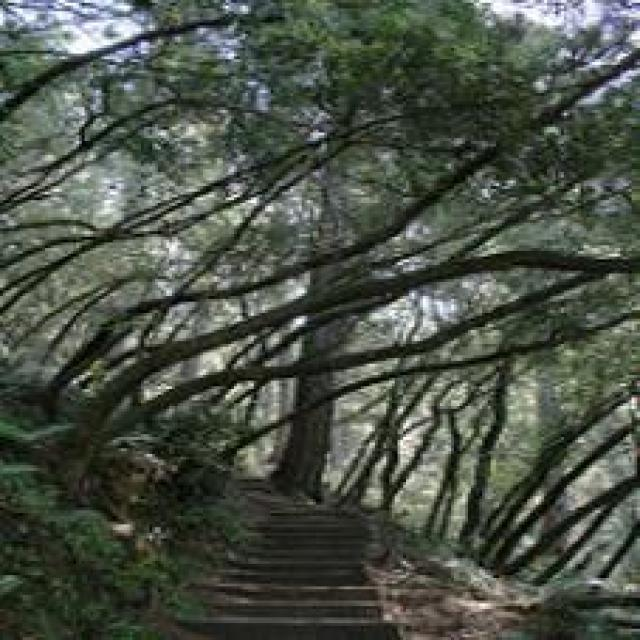upstair: (159, 469, 424, 627)
